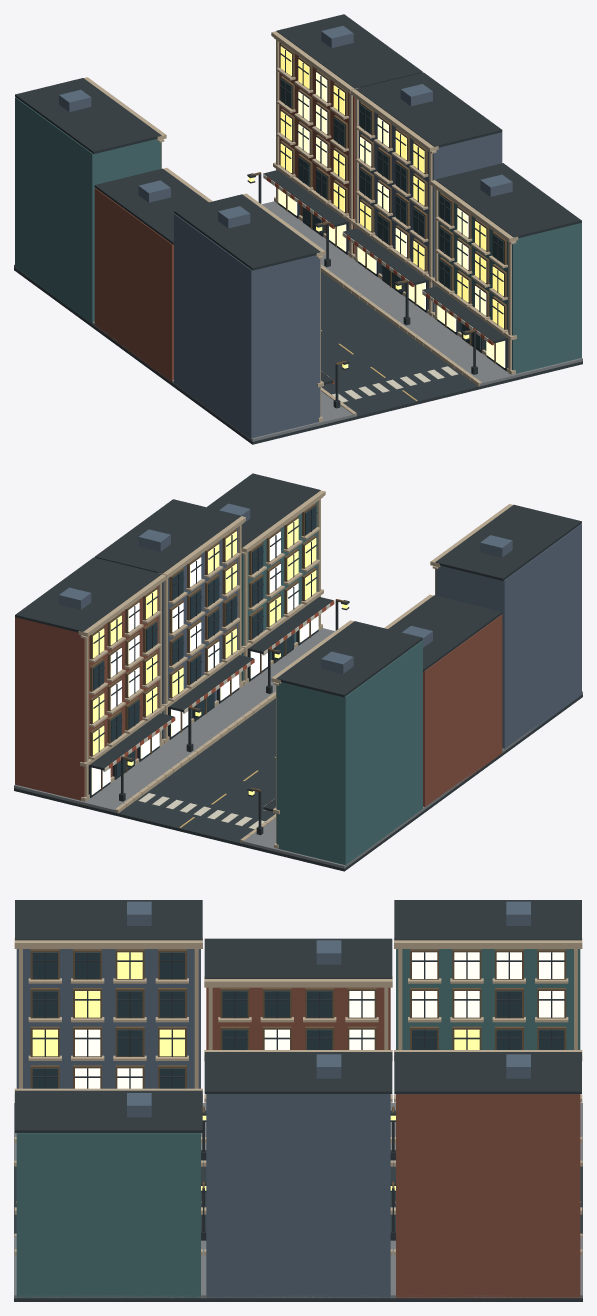
File: city.glb
3 views of the same model, one above another, from view 1: azimuth 30°, elevation 25°; view 2: azimuth 150°, elevation 25°; view 3: azimuth 270°, elevation 25° (orthographic). The views are drawn at different scales.
Parts seen in each view (by area): view 1: Facade -1 0, Facade +1 0, Facade -1 2, Facade +1 1, Facade +1 2, Facade -1 1, Street, Sidewalk +1, Sidewalk -1; view 2: Facade -1 2, Facade +1 2, Facade -1 0, Facade +1 1, Facade -1 1, Facade +1 0, Street, Sidewalk +1, Sidewalk -1; view 3: Facade +1 1, Facade +1 2, Facade +1 0, Facade -1 0, Facade -1 2, Facade -1 1, Street, Sidewalk +1, Sidewalk -1.
Boxes of the visible parts, bbox=[...] form: Facade -1 0: bbox=[174, 193, 334, 440]; Facade +1 0: bbox=[422, 163, 581, 374]; Facade -1 2: bbox=[15, 77, 166, 324]; Facade +1 1: bbox=[342, 72, 502, 316]; Facade +1 2: bbox=[263, 14, 422, 258]; Facade -1 1: bbox=[94, 168, 212, 382]; Street: bbox=[14, 267, 582, 444]; Sidewalk +1: bbox=[262, 201, 582, 386]; Sidewalk -1: bbox=[14, 264, 356, 441]; Facade -1 2: bbox=[263, 620, 422, 865]; Facade +1 2: bbox=[15, 557, 175, 801]; Facade -1 0: bbox=[430, 504, 581, 748]; Facade +1 1: bbox=[94, 499, 254, 743]; Facade -1 1: bbox=[384, 594, 502, 806]; Facade +1 0: bbox=[207, 473, 334, 685]; Street: bbox=[14, 694, 582, 871]; Sidewalk +1: bbox=[14, 628, 334, 813]; Sidewalk -1: bbox=[240, 691, 582, 868]; Facade +1 1: bbox=[204, 1050, 392, 1298]; Facade +1 2: bbox=[394, 1050, 582, 1298]; Facade +1 0: bbox=[14, 1088, 202, 1298]; Facade -1 0: bbox=[14, 900, 202, 1143]; Facade -1 2: bbox=[394, 900, 582, 1143]; Facade -1 1: bbox=[204, 938, 392, 1143]; Street: bbox=[14, 1166, 582, 1301]; Sidewalk +1: bbox=[14, 1233, 582, 1298]; Sidewalk -1: bbox=[14, 1103, 582, 1166].
Bounding box in the file's own units: 24 × 12.88 × 30.
